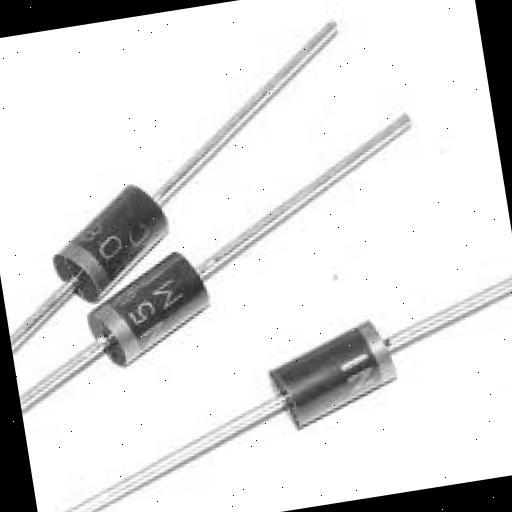DIODE: (221, 269, 512, 491), (28, 230, 274, 384), (22, 149, 206, 314)
